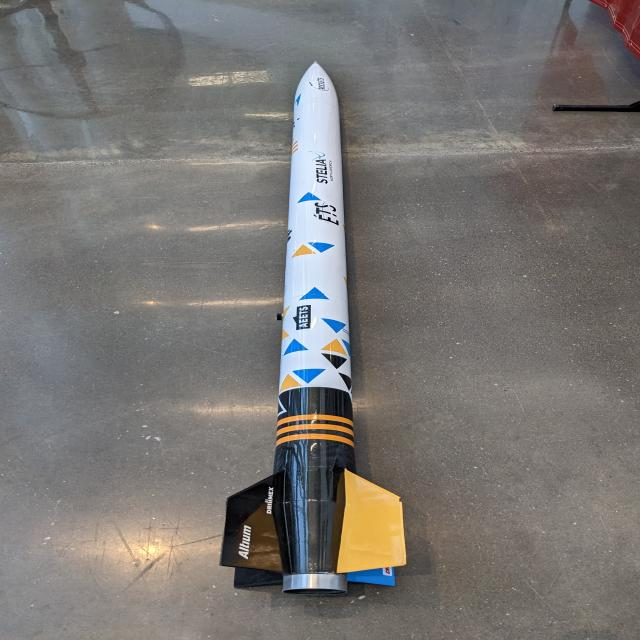Rocket: (219, 61, 407, 596)
